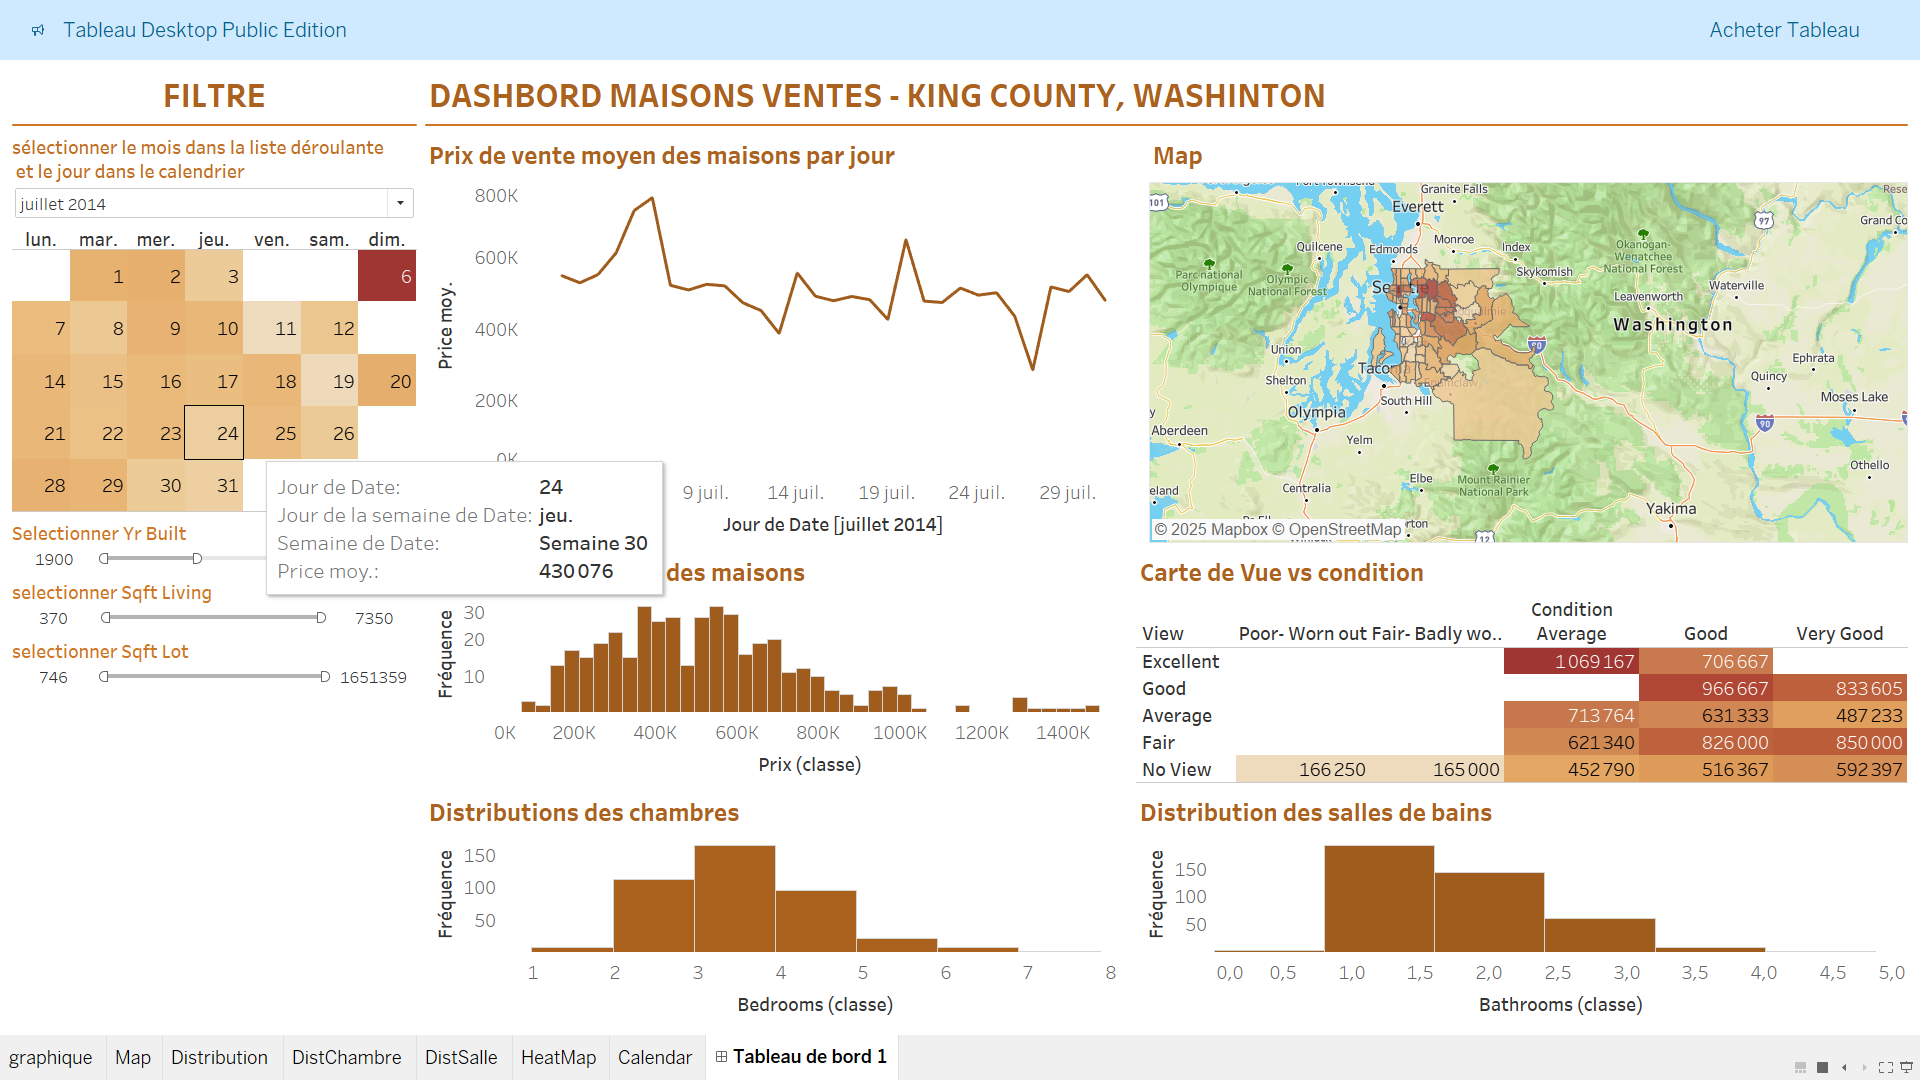

This screenshot's page, from the dashboard's own definition file:
{"tool":"tableau","page":{"name":"Tableau de bord 1","canvas":[1000,1000],"units":"permille","ordinal":0},"visuals":[{"type":"text","box":[4.9,10.4,214.7,67.7]},{"type":"text","box":[219.6,10.4,775.5,67.7]},{"type":"blank","box":[4.9,78.1,214.7,13]},{"type":"blank","box":[219.6,78.1,775.5,13]},{"type":"filter","title":"Calendar","param":"[federated.015mqke0ulfacx18p7c4f1210jg8].[my:date:ok]","box":[4.9,91.2,214.7,123.7]},{"type":"worksheet","title":"graphique","mark":"Automatic","rows":["price"],"cols":["date"],"box":[219.6,91.2,376.6,408.8]},{"type":"worksheet","title":"Map","mark":"Automatic","box":[596.2,91.2,398.9,408.8]},{"type":"worksheet","title":"Calendar","mark":"Square","rows":["date"],"cols":["date"],"box":[4.9,214.8,214.7,378.9]},{"type":"worksheet","title":"Distribution","mark":"Automatic","rows":["price"],"cols":["Price (classe)"],"box":[219.6,500,369.7,244.8]},{"type":"worksheet","title":"HeatMap","mark":"Square","rows":["view"],"cols":["condition"],"box":[589.3,500,405.8,244.8]},{"type":"filter","title":"Calendar","param":"[federated.015mqke0ulfacx18p7c4f1210jg8].[none:yr_built:qk]","box":[4.9,593.8,214.7,76.8]},{"type":"filter","title":"Calendar","param":"[federated.015mqke0ulfacx18p7c4f1210jg8].[none:sqft_living:qk]","box":[4.9,670.6,214.7,76.8]},{"type":"worksheet","title":"DistChambre","mark":"Automatic","rows":["bedrooms"],"cols":["Bedrooms (classe)"],"box":[219.6,744.8,369.7,244.8]},{"type":"worksheet","title":"DistSalle","mark":"Automatic","rows":["bathrooms"],"cols":["Bathrooms (classe)"],"box":[589.3,744.8,405.8,244.8]},{"type":"filter","title":"Calendar","param":"[federated.015mqke0ulfacx18p7c4f1210jg8].[none:sqft_lot:qk]","box":[4.9,747.4,214.7,76.8]}]}

Visuals, with their boxes on the dashboard's canvas, which has no fixed pixel size, in thousandths of its width and height (x1, y1, x2, y2). These are canvas units, not pixel positions in the 1920x1080 screenshot, which may show the page scaled, cropped or inside an application window:
text: region(5, 10, 220, 78)
text: region(220, 10, 995, 78)
blank: region(5, 78, 220, 91)
blank: region(220, 78, 995, 91)
"Calendar" filter: region(5, 91, 220, 215)
"graphique" worksheet: region(220, 91, 596, 500)
"Map" worksheet: region(596, 91, 995, 500)
"Calendar" worksheet (Square marks): region(5, 215, 220, 594)
"Distribution" worksheet: region(220, 500, 589, 745)
"HeatMap" worksheet (Square marks): region(589, 500, 995, 745)
"Calendar" filter: region(5, 594, 220, 671)
"Calendar" filter: region(5, 671, 220, 747)
"DistChambre" worksheet: region(220, 745, 589, 990)
"DistSalle" worksheet: region(589, 745, 995, 990)
"Calendar" filter: region(5, 747, 220, 824)
